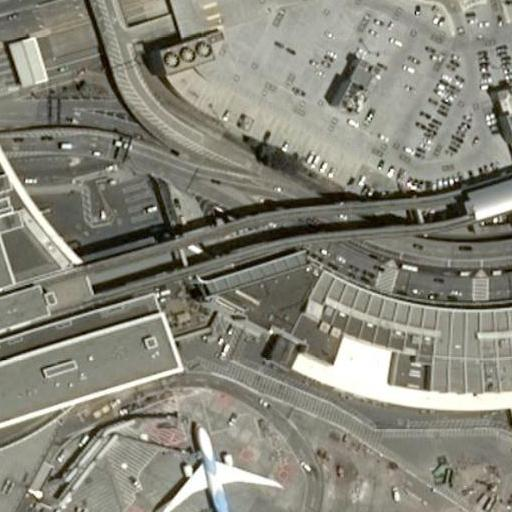Aircraft: (147, 409, 279, 512)
